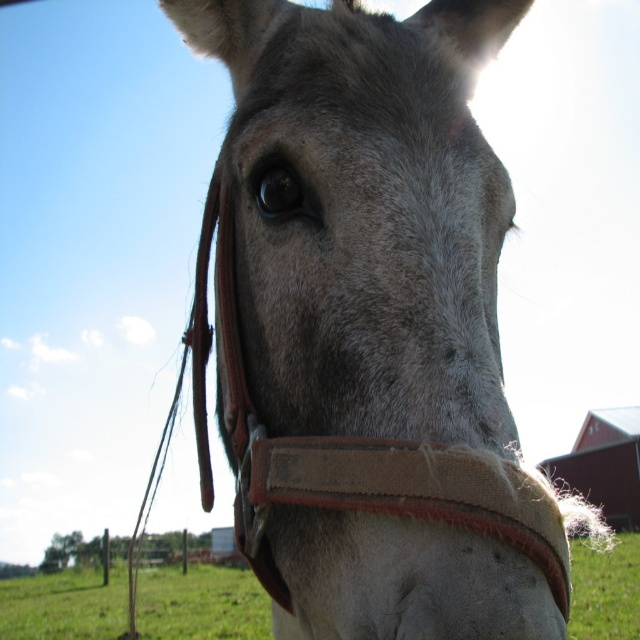Horse: (149, 0, 624, 640)
